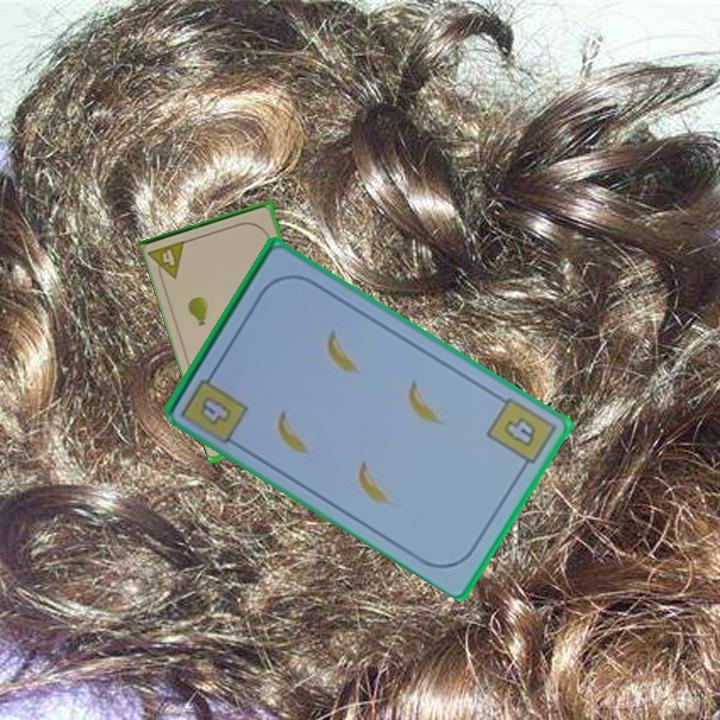4b: (483, 393, 559, 475), (197, 391, 235, 429)
4p: (146, 237, 190, 286)
